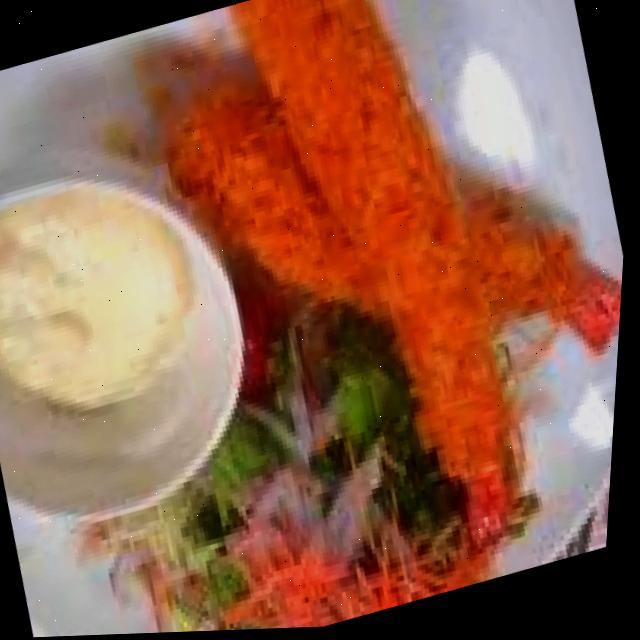炸货点心: (94, 0, 640, 636)
熟制海鲜: (94, 0, 640, 636)
